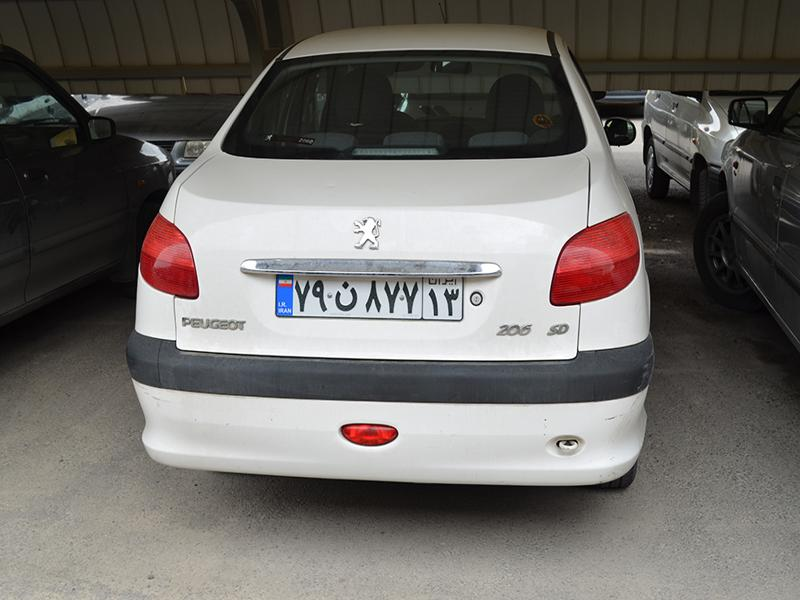Plate: (266, 267, 475, 332)
